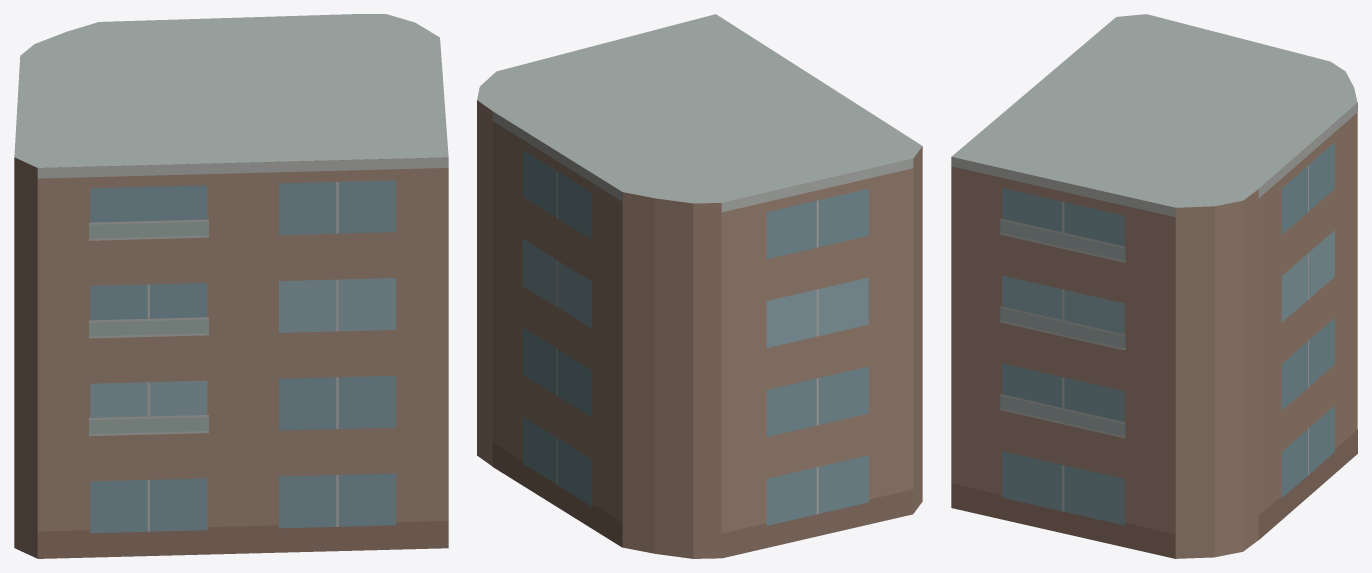
The model's file is survey-upis-32728711.glb.
The picture shows the model from 3 angles, left to right: view 1: azimuth 30°, elevation 25°; view 2: azimuth 150°, elevation 25°; view 3: azimuth 270°, elevation 25°; orthographic projection. The views are drawn at different scales.
Visible parts, largest first — view 1: survey-upis-32728711.tmp; view 2: survey-upis-32728711.tmp; view 3: survey-upis-32728711.tmp.
Boxes of the visible parts, box(x1,y1,x2,y2) form: survey-upis-32728711.tmp: box(14, 14, 448, 558); survey-upis-32728711.tmp: box(477, 14, 922, 558); survey-upis-32728711.tmp: box(951, 14, 1357, 558).
Size of the model in its own units: 10.66 by 9 by 9.45.
